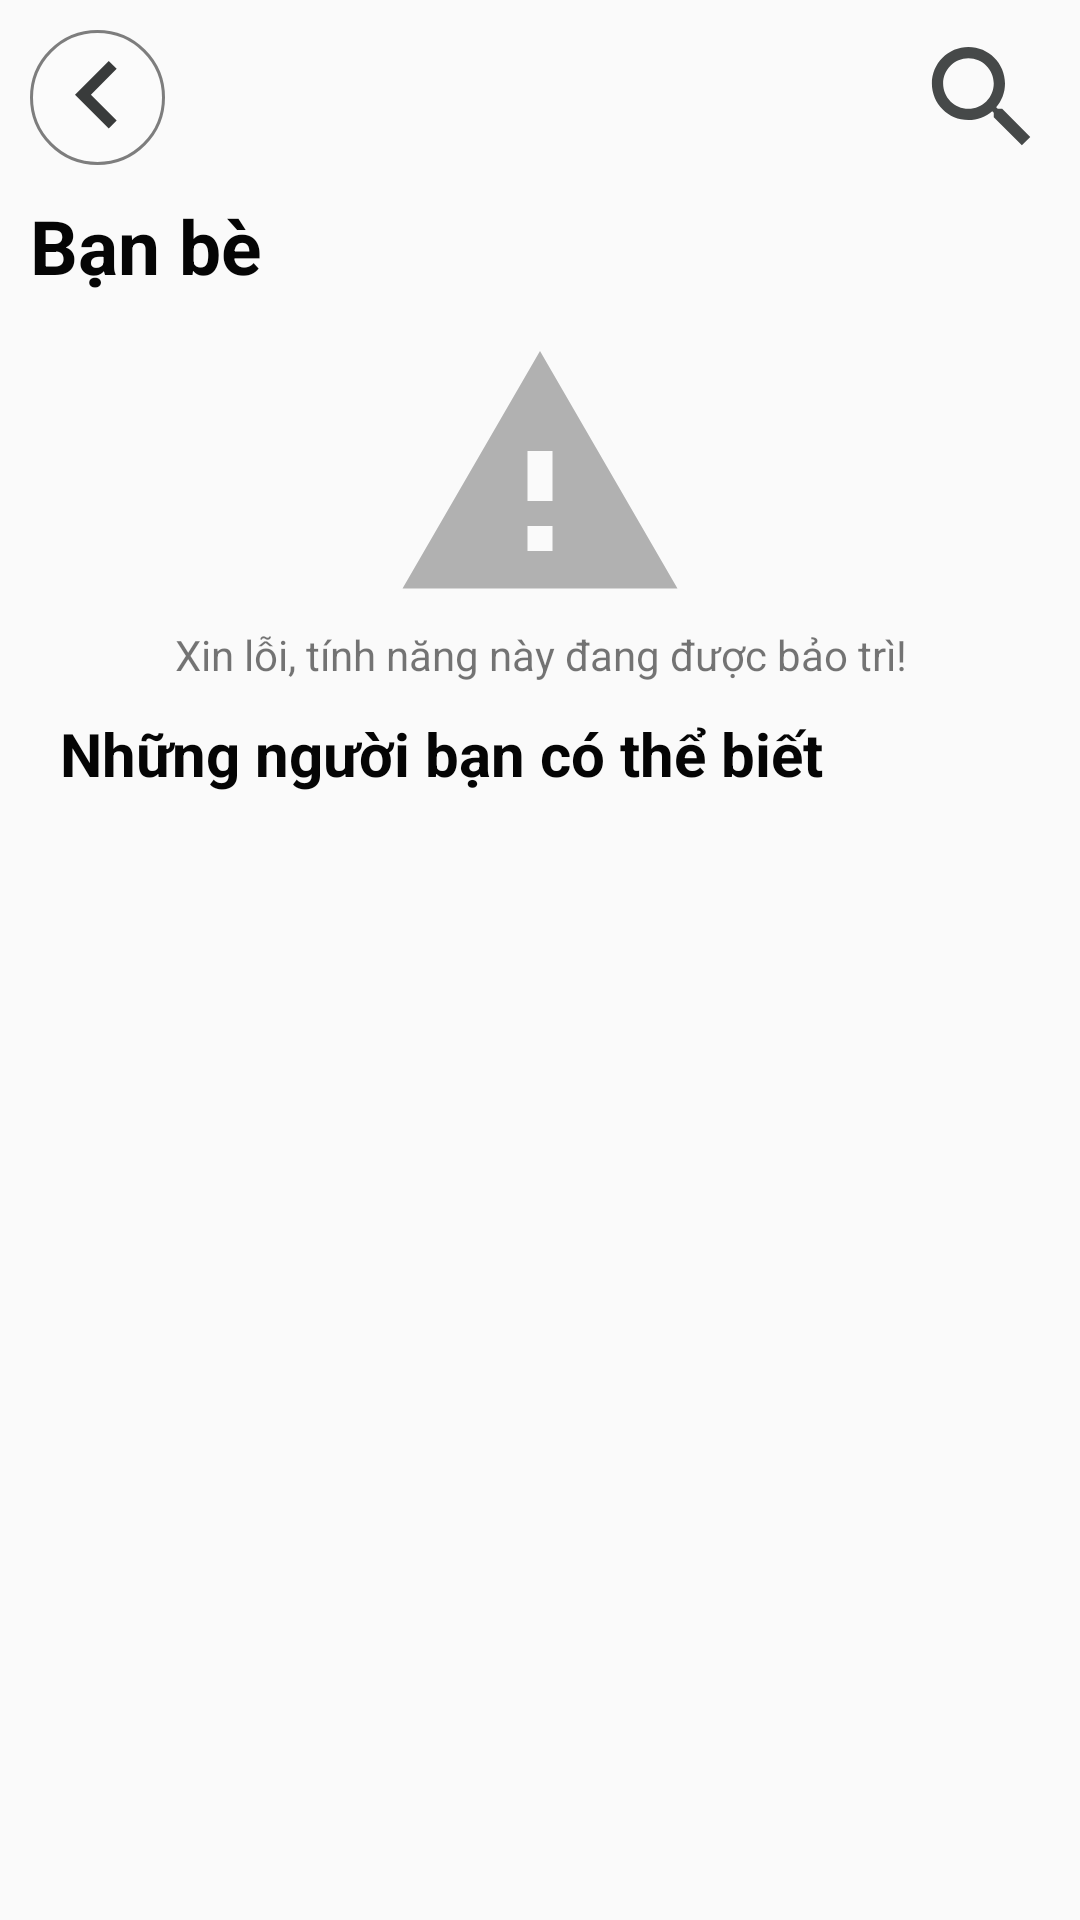

Icon bounding boxes for this 1080*1920 phone screenshot, format (x1,y1,x2,y2):
back: (30,30,165,165)
search: (932,47,1030,145)
warning: (403,352,677,589)
